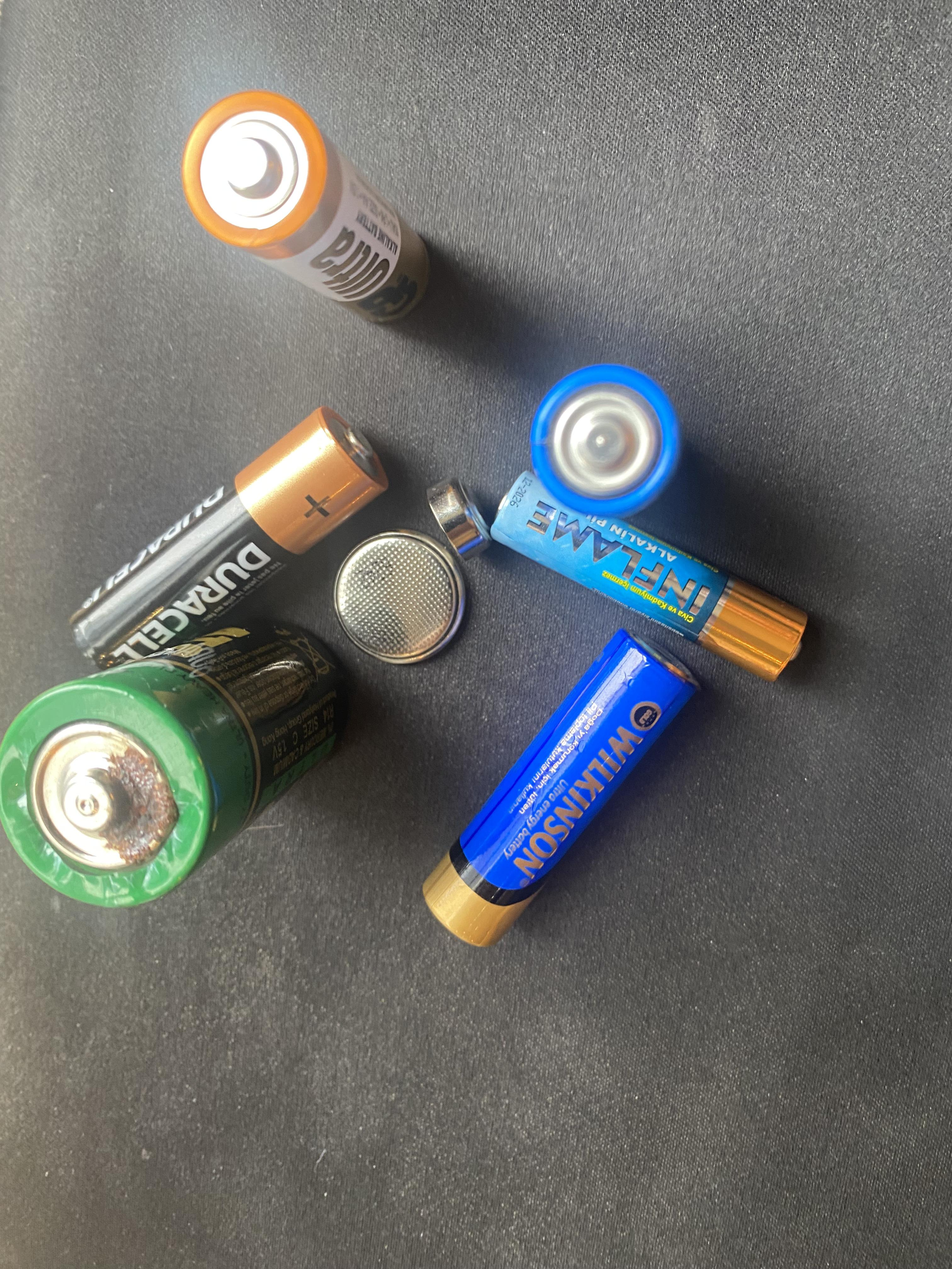AA: (420, 626, 701, 947), (179, 87, 431, 325)
